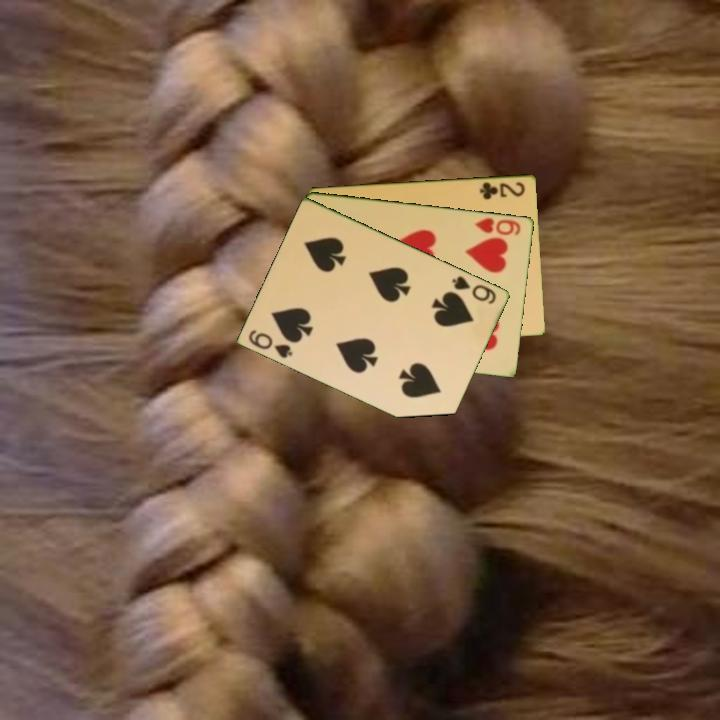2c: (476, 178, 528, 202)
6h: (472, 214, 524, 238)
6s: (245, 326, 296, 361), (449, 272, 499, 307)
